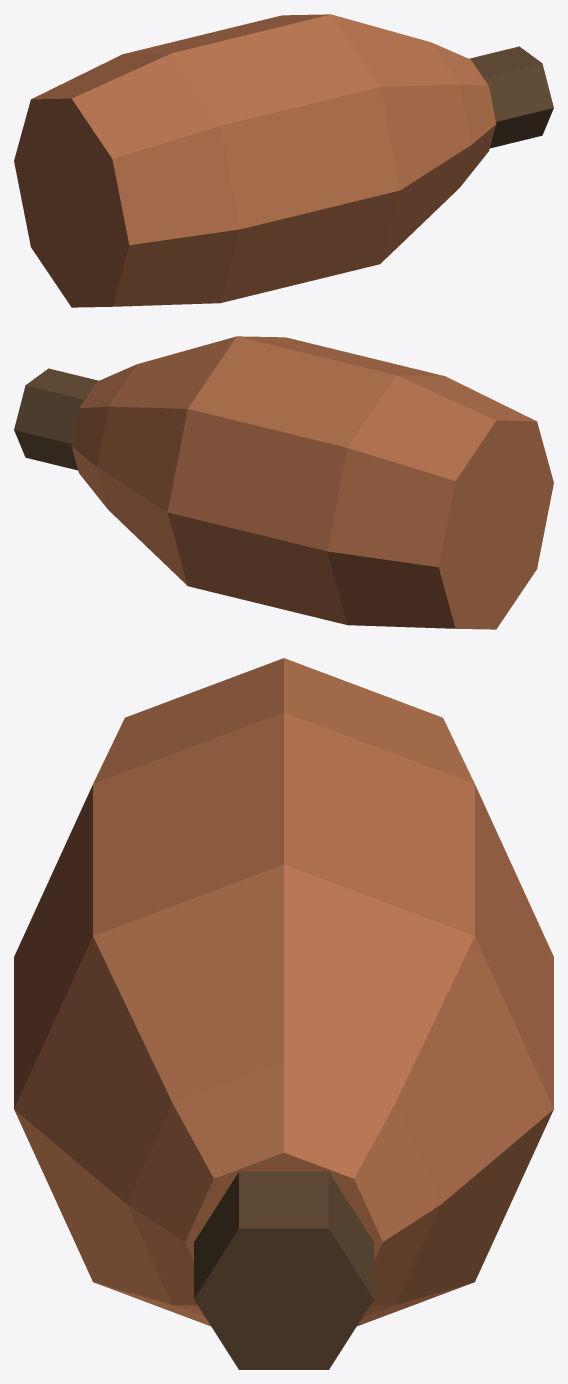
File: water.glb
3 views of the same model, one above another, from view 1: azimuth 30°, elevation 25°; view 2: azimuth 150°, elevation 25°; view 3: azimuth 270°, elevation 25° (orthographic). The views are drawn at different scales.
Parts seen in each view (by area): view 1: water; view 2: water; view 3: water.
Boxes of the visible parts, left/top/right/bottom form: water: left=14, top=14, right=553, bottom=307; water: left=14, top=336, right=553, bottom=629; water: left=14, top=658, right=553, bottom=1369.
Size of the model in its own units: 0.23 by 0.12 by 0.12.
